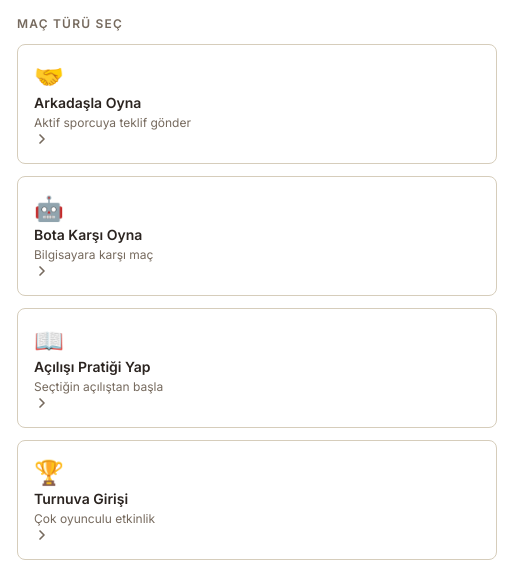
Test: /play — "Maç Türü" yazısı kaldırıldı (madde 4 ve 8) › Açılışı Pratiği Yap içinde "Maç Türü" YAZISI yoktur
What coordinates should you click on to do the following:
click the text "Açılışı Pratiği Yap"
I would click on:
 (92, 366)
Its box is [34, 358, 150, 375].
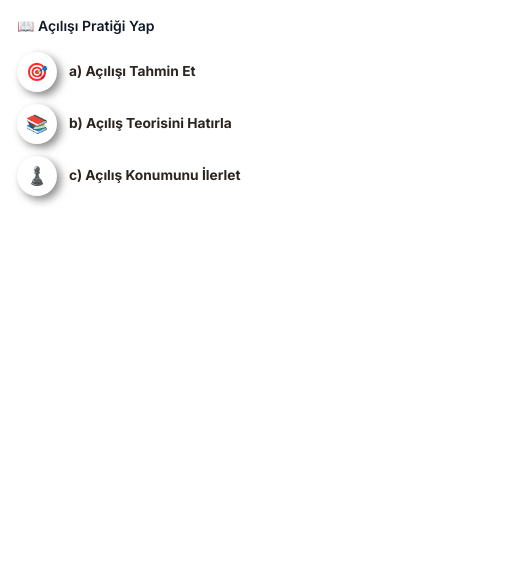
Expected: the text "Maç Türü" is gone
